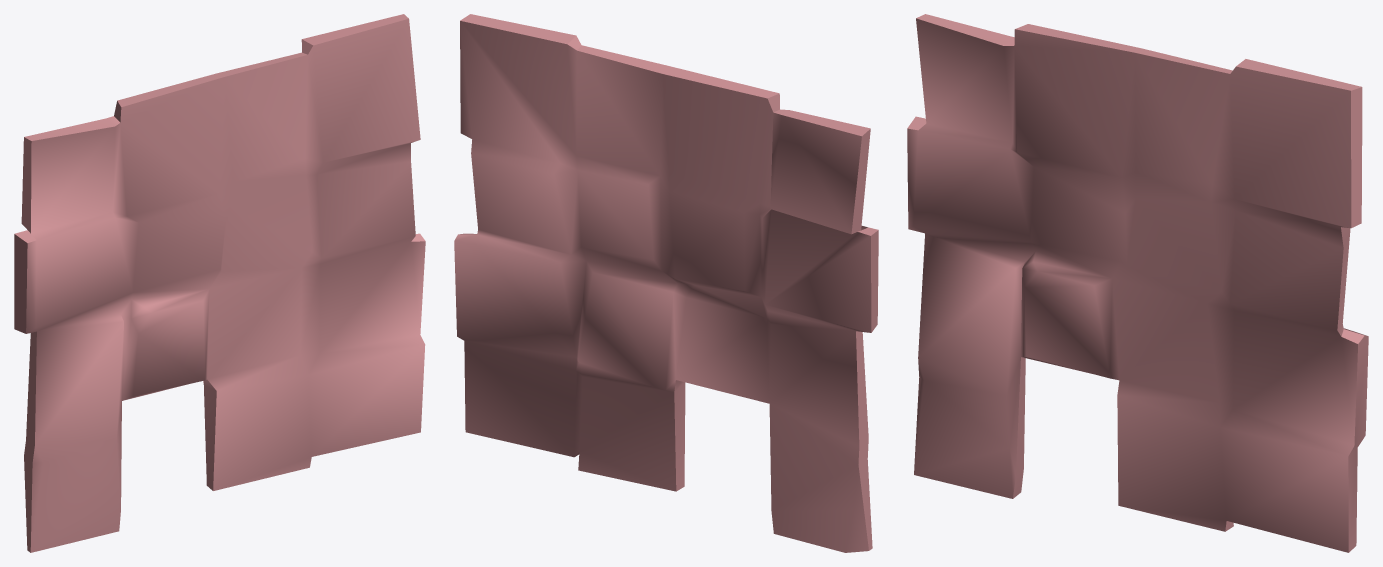
The model's file is Stone_Brick_002_e.FBX.
The picture shows the model from 3 angles, left to right: view 1: azimuth 30°, elevation 25°; view 2: azimuth 150°, elevation 25°; view 3: azimuth 330°, elevation 25°; orthographic projection. The views are drawn at different scales.
Parts seen in each view (by area): view 1: Stone_Brick_002_e_LOD0; view 2: Stone_Brick_002_e_LOD0; view 3: Stone_Brick_002_e_LOD0.
Part boxes in pixels (x1=…): Stone_Brick_002_e_LOD0: x1=14, y1=14, x2=425, y2=552; Stone_Brick_002_e_LOD0: x1=454, y1=14, x2=878, y2=552; Stone_Brick_002_e_LOD0: x1=907, y1=14, x2=1368, y2=552.
Size of the model in its own units: 271 by 23.83 by 278.
